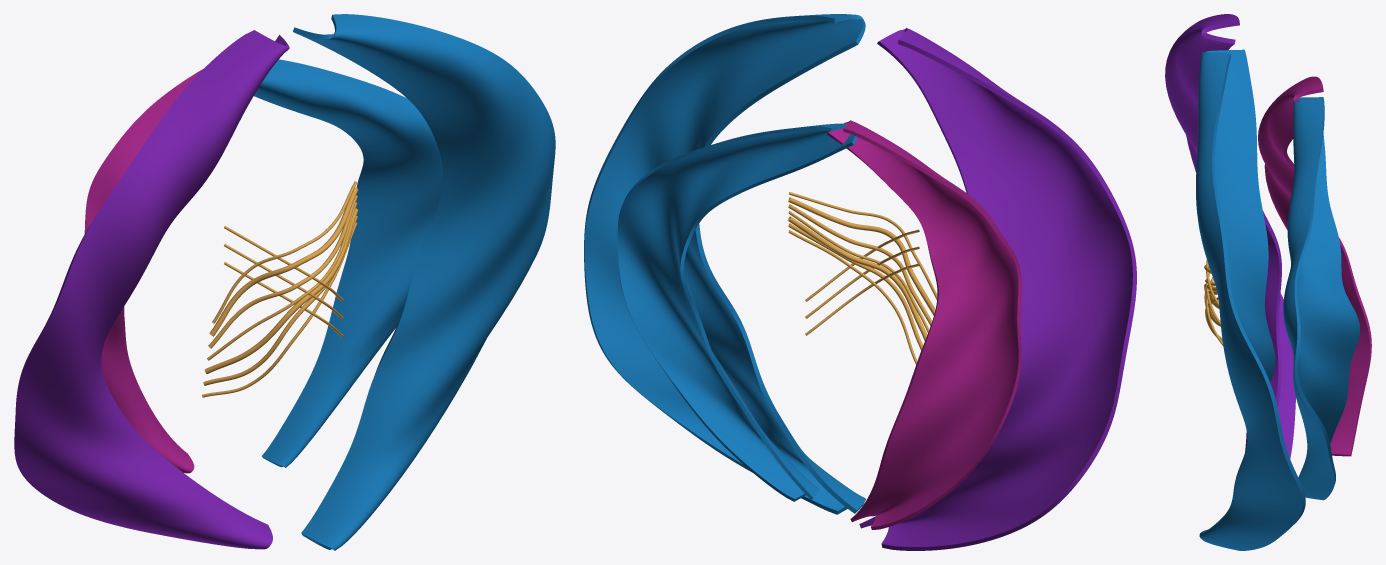
The model's file is infinite-flow.glb.
3 views of the same model, side by side, from view 1: azimuth 30°, elevation 25°; view 2: azimuth 150°, elevation 25°; view 3: azimuth 270°, elevation 25° (orthographic). The views are drawn at different scales.
Visible parts, largest first — view 1: Cyan main, Violet main, Inner fold.001, Inner fold, Gold filament 05, Gold filament 02, Gold filament 04, Gold filament 01, Gold filament 00, Gold filament 06, Gold filament 03; view 2: Violet main, Cyan main, Inner fold, Inner fold.001, Gold filament 05, Gold filament 02, Gold filament 04, Gold filament 01, Gold filament 06, Gold filament 00, Gold filament 03; view 3: Cyan main, Inner fold.001, Violet main, Inner fold.
Part boxes in pixels (box(x1,y1,x2,y2)): Cyan main: box(293, 14, 555, 550); Violet main: box(14, 30, 289, 549); Inner fold.001: box(254, 59, 443, 467); Inner fold: box(84, 69, 202, 473); Gold filament 05: box(209, 187, 358, 336); Gold filament 02: box(204, 208, 358, 373); Gold filament 04: box(208, 195, 357, 348); Gold filament 01: box(203, 216, 357, 385); Gold filament 00: box(202, 222, 357, 397); Gold filament 06: box(212, 181, 357, 323); Gold filament 03: box(207, 202, 357, 360); Violet main: box(859, 28, 1136, 550); Cyan main: box(584, 14, 865, 514); Inner fold: box(827, 120, 1021, 529); Inner fold.001: box(617, 123, 857, 501); Gold filament 05: box(788, 197, 935, 315); Gold filament 02: box(787, 216, 927, 340); Gold filament 04: box(788, 204, 932, 325); Gold filament 01: box(788, 223, 923, 350); Gold filament 06: box(788, 192, 937, 299); Gold filament 00: box(788, 230, 917, 364); Gold filament 03: box(788, 211, 929, 332); Cyan main: box(1196, 49, 1305, 550); Inner fold.001: box(1283, 97, 1359, 500); Violet main: box(1165, 14, 1295, 458); Inner fold: box(1258, 76, 1371, 456).
Size of the model in its own units: 3.21 by 2.92 by 1.1.
